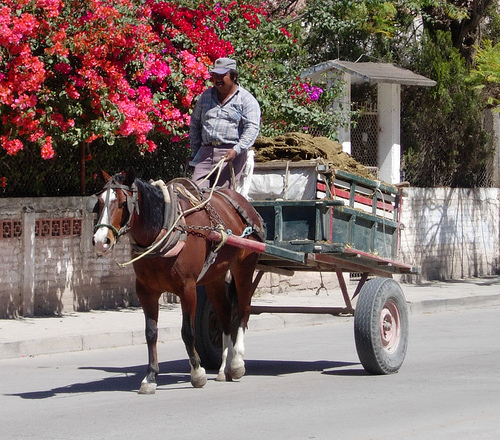horse: (90, 170, 266, 395)
